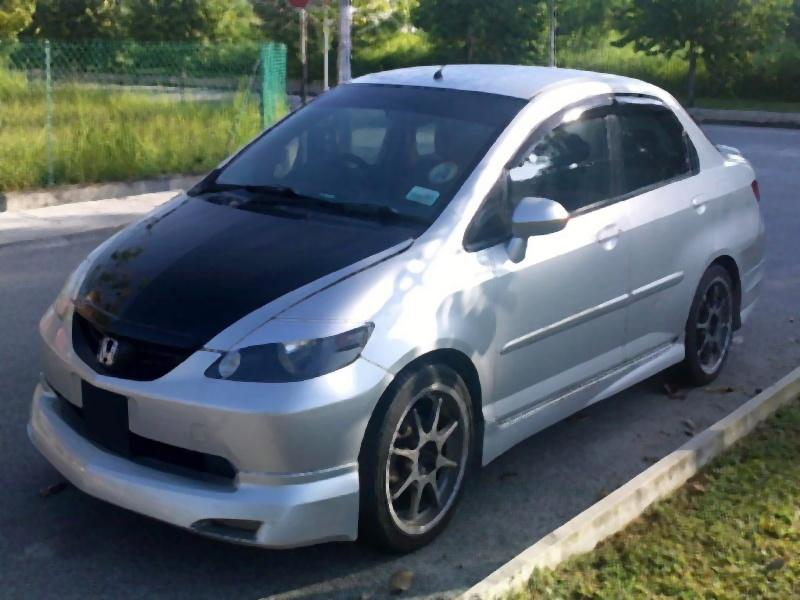Car hood: (54, 185, 427, 365)
Fender - -F-L-: (341, 225, 502, 460)
Fender - -R-L-: (672, 115, 768, 349)
Front bumper: (26, 314, 393, 551)
Headlight - -L-: (203, 319, 375, 382)
Passenger-s door - -F-L-: (474, 59, 638, 470)
Passenger-s door - -R-L-: (609, 51, 724, 431)
Rear bumper: (730, 244, 780, 329)
Side bumper - -L-: (483, 323, 687, 529)
Side mirror - -L-: (507, 195, 571, 266)
